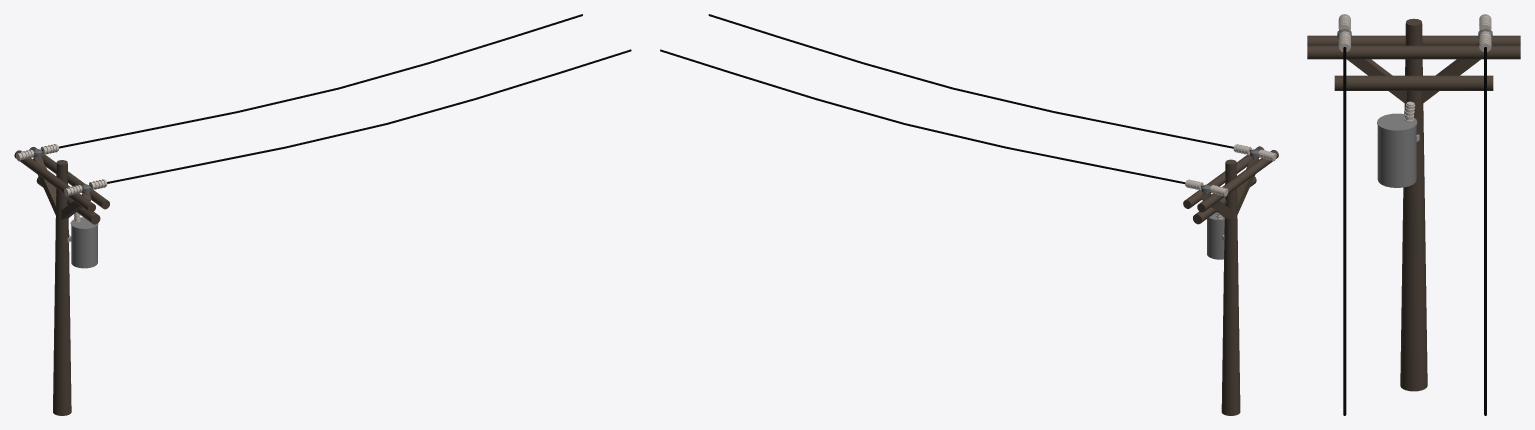
Rendered from poste.fbx.
3 renders of one model, left to right at view 1: azimuth 30°, elevation 25°; view 2: azimuth 150°, elevation 25°; view 3: azimuth 270°, elevation 25°, orthographic. The views are drawn at different scales.
Parts seen in each view (by area): view 1: pCylinder1, pCylinder13, pCylinder14, pCylinder8, pCylinder2, pCylinder4; view 2: pCylinder1, pCylinder13, pCylinder14, pCylinder2, pCylinder8, pCylinder4; view 3: pCylinder1, pCylinder4, pCylinder8, pCylinder3, pCylinder2, pCylinder13, pCylinder14, pCube2, pCube1, pCylinder10, pCylinder9.
Boxes of the visible parts, bbox=[...] form: pCylinder1: bbox=[53, 160, 71, 415]; pCylinder13: bbox=[90, 49, 631, 186]; pCylinder14: bbox=[41, 14, 582, 151]; pCylinder8: bbox=[70, 217, 98, 268]; pCylinder2: bbox=[14, 150, 95, 212]; pCylinder4: bbox=[29, 147, 109, 209]; pCylinder1: bbox=[1221, 159, 1240, 415]; pCylinder13: bbox=[708, 14, 1250, 151]; pCylinder14: bbox=[660, 49, 1202, 187]; pCylinder2: bbox=[1197, 150, 1278, 212]; pCylinder8: bbox=[1207, 213, 1224, 259]; pCylinder4: bbox=[1183, 146, 1264, 208]; pCylinder1: bbox=[1400, 18, 1427, 391]; pCylinder4: bbox=[1307, 45, 1520, 59]; pCylinder8: bbox=[1377, 113, 1417, 187]; pCylinder3: bbox=[1334, 75, 1493, 90]; pCylinder2: bbox=[1307, 35, 1520, 45]; pCylinder13: bbox=[1343, 47, 1346, 415]; pCylinder14: bbox=[1484, 47, 1486, 415]; pCube2: bbox=[1421, 42, 1492, 103]; pCube1: bbox=[1347, 44, 1406, 103]; pCylinder10: bbox=[1338, 31, 1350, 51]; pCylinder9: bbox=[1479, 31, 1491, 52].
Bounding box in the file's own units: 48.87 × 20.63 × 10.99.
